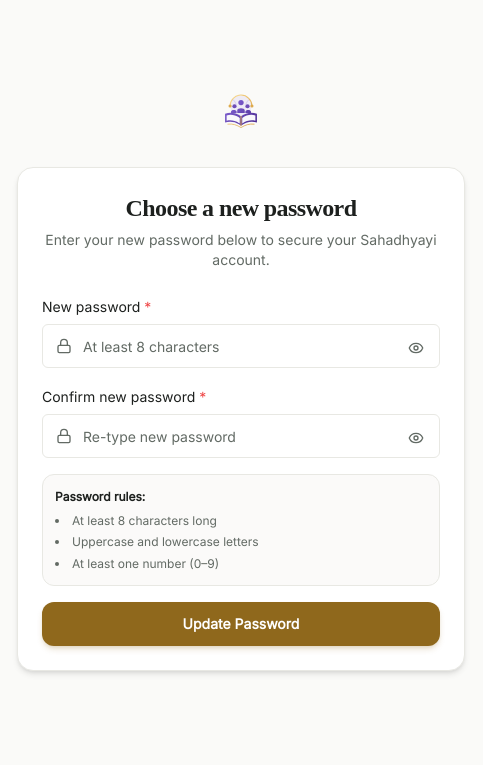
Scenario: ResetPassword Page › submits valid password and displays success message
Expected: the heading "Choose a new password" is shown, [126,195,356,221]
Type "StrongPassword123" into the password field labelled "New password *" at (241, 346), box [42,324,440,368]
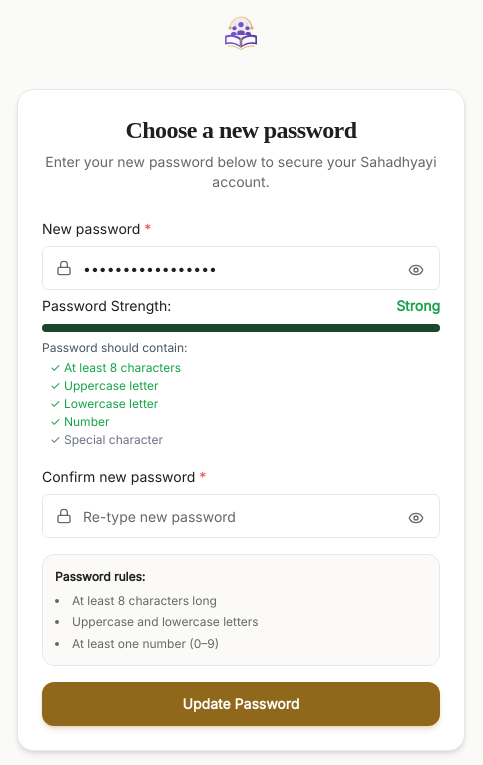
Type "StrongPassword123" into the password field labelled "Confirm new password *" at (241, 516), box [42,494,440,538]
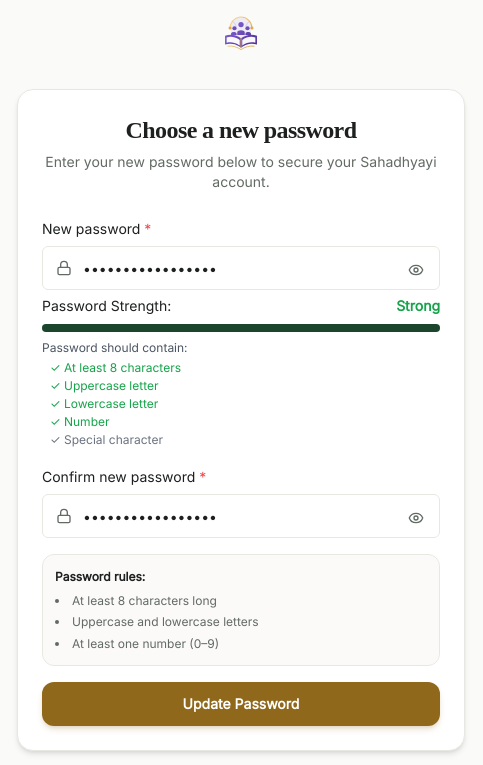
Click the button "Update Password" at (241, 704), box [42,682,440,726]
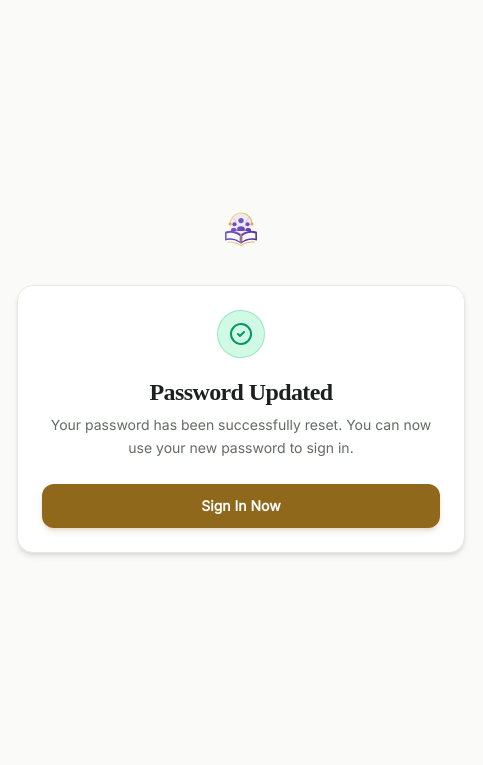
Expected: the heading "Password Updated" is shown, [150,379,333,405]
